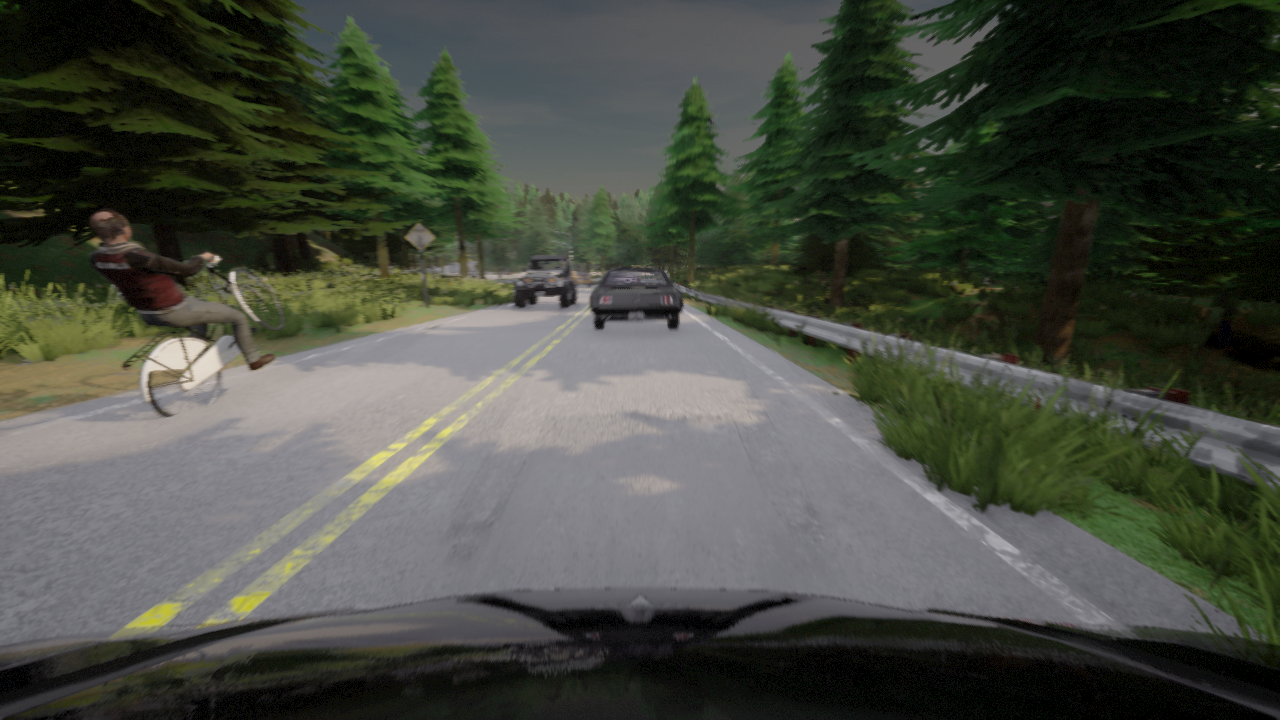cyclist: (0, 588, 1279, 719), (121, 249, 283, 418), (590, 269, 682, 329), (513, 256, 575, 307), (571, 270, 594, 286), (611, 267, 632, 270)
